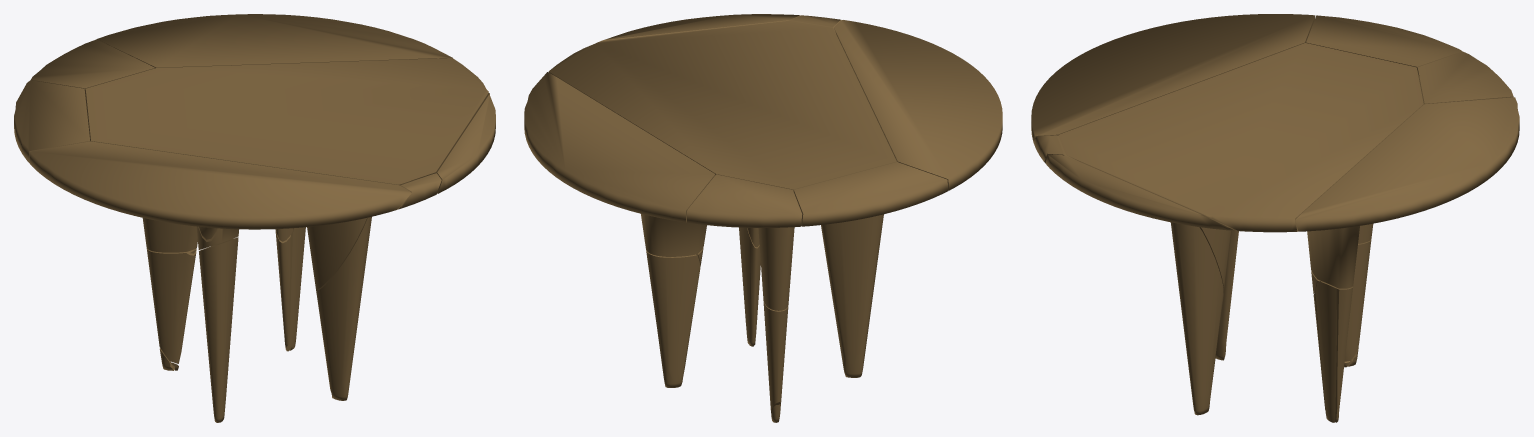
The model's file is TableShattered.fbx.
3 renders of one model, left to right at view 1: azimuth 30°, elevation 25°; view 2: azimuth 150°, elevation 25°; view 3: azimuth 270°, elevation 25°, orthographic. The views are drawn at different scales.
Parts seen in each view (by area): view 1: Table_cell.007, Table_cell.003, Table_cell.008, Table_cell.011, Table_cell.005, Table_cell.009, Table_cell.010, Table_cell.002, Table_cell.012, Table_cell.015, Table_cell.001, Table_cell.004 (+1 smaller); view 2: Table_cell.007, Table_cell.003, Table_cell.008, Table_cell.009, Table_cell.005, Table_cell.001, Table_cell.002, Table_cell.012, Table_cell.010, Table_cell.011; view 3: Table_cell.007, Table_cell.003, Table_cell.008, Table_cell.011, Table_cell.005, Table_cell.012, Table_cell.002, Table_cell.004, Table_cell.010, Table_cell.001, Table_cell.009, Table_cell.015 (+1 smaller).
Part boxes in pixels (box(x1,y1,x2,y2)): Table_cell.007: box(85, 58, 488, 252); Table_cell.003: box(29, 141, 411, 239); Table_cell.008: box(97, 14, 452, 68); Table_cell.011: box(316, 217, 371, 400); Table_cell.005: box(14, 80, 89, 163); Table_cell.009: box(199, 237, 238, 422); Table_cell.010: box(146, 248, 196, 363); Table_cell.002: box(31, 39, 154, 90); Table_cell.012: box(411, 93, 495, 193); Table_cell.015: box(307, 218, 366, 289); Table_cell.001: box(275, 229, 293, 351); Table_cell.004: box(289, 227, 305, 350); Table_cell.007: box(548, 21, 896, 310); Table_cell.003: box(834, 20, 1002, 190); Table_cell.008: box(524, 72, 715, 222); Table_cell.009: box(821, 214, 883, 377); Table_cell.005: box(793, 162, 947, 226); Table_cell.001: box(646, 250, 700, 387); Table_cell.002: box(686, 174, 802, 227); Table_cell.012: box(601, 14, 800, 40); Table_cell.010: box(763, 300, 788, 412); Table_cell.011: box(739, 227, 760, 346); Table_cell.007: box(1058, 43, 1424, 288); Table_cell.003: box(1031, 14, 1315, 139); Table_cell.008: box(1295, 97, 1519, 231); Table_cell.011: box(1171, 222, 1223, 415); Table_cell.005: box(1306, 15, 1462, 75); Table_cell.012: box(1045, 154, 1234, 230); Table_cell.002: box(1417, 51, 1513, 103); Table_cell.004: box(1315, 281, 1336, 422); Table_cell.010: box(1344, 240, 1371, 361); Table_cell.001: box(1313, 281, 1352, 422); Table_cell.009: box(1215, 229, 1238, 360); Table_cell.015: box(1170, 222, 1231, 292).
Size of the model in its own units: 95.45 by 58.73 by 95.44.
